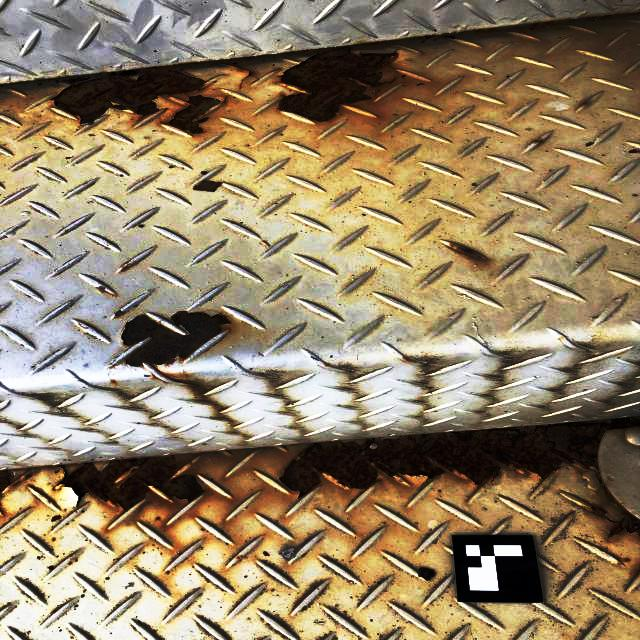Corrosion: (280, 416, 640, 496), (49, 70, 205, 126), (57, 455, 208, 512), (279, 48, 395, 121), (120, 311, 229, 367), (164, 93, 224, 136), (591, 508, 640, 539), (234, 66, 253, 90), (0, 470, 13, 493), (455, 248, 477, 257), (113, 308, 124, 318)
